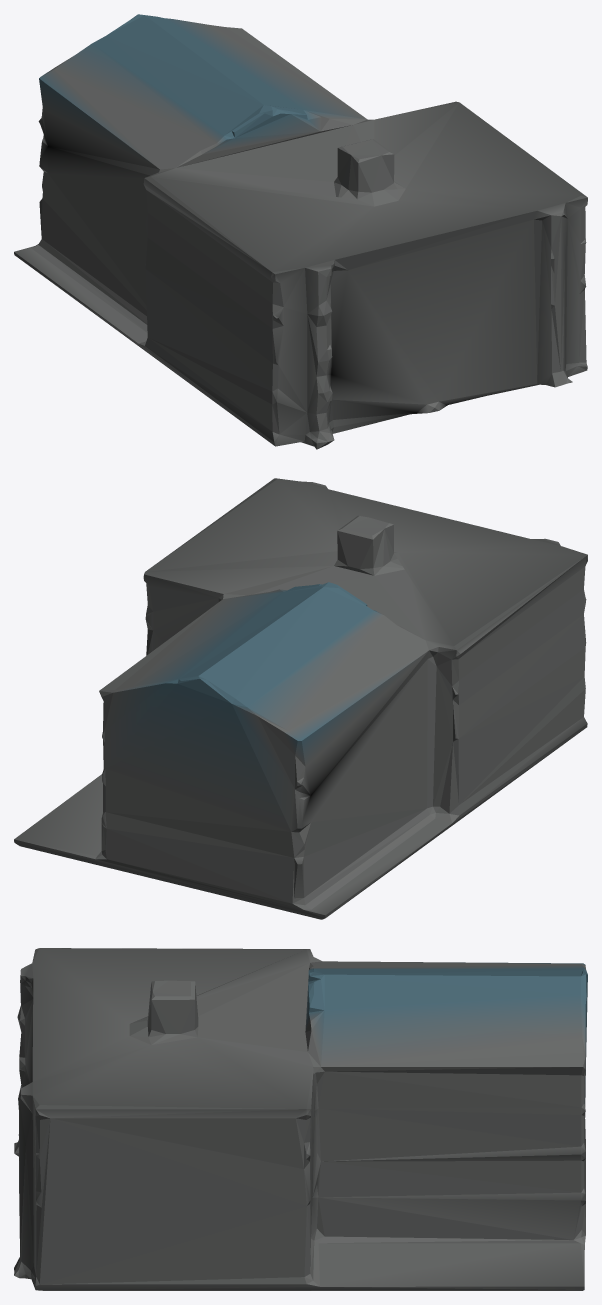
Rendered from Apartment Buildings(4).glb.
3 renders of one model, top to bottom at view 1: azimuth 30°, elevation 25°; view 2: azimuth 150°, elevation 25°; view 3: azimuth 270°, elevation 25°, orthographic. The views are drawn at different scales.
Visible parts, largest first — view 1: Root; view 2: Root; view 3: Root.
Part boxes in pixels (x1,y1,x2,y2): Root: [14, 14, 587, 449]; Root: [14, 478, 587, 919]; Root: [14, 948, 587, 1290].
Bounding box in the file's own units: 22.03 × 14.24 × 32.91.
